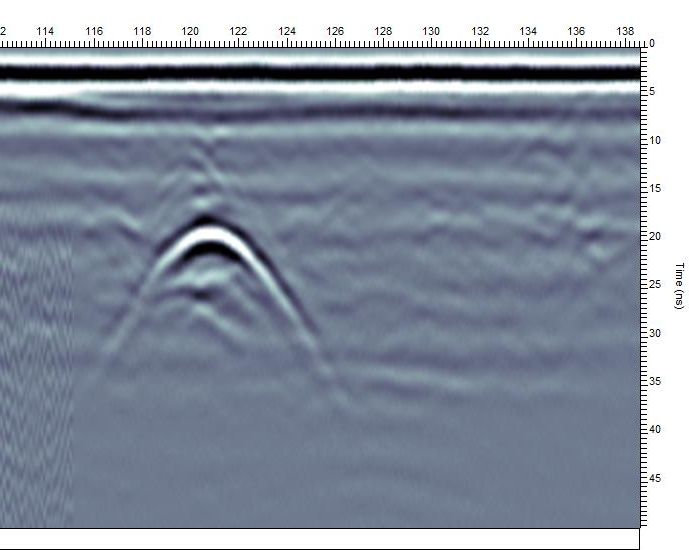hyperbola: (101, 209, 332, 383)
